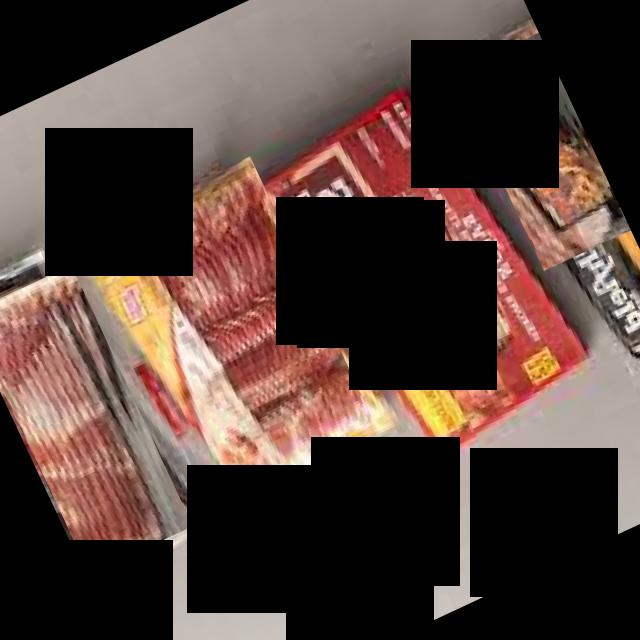bacon: (163, 156, 379, 473), (0, 265, 193, 574), (452, 32, 631, 270)
